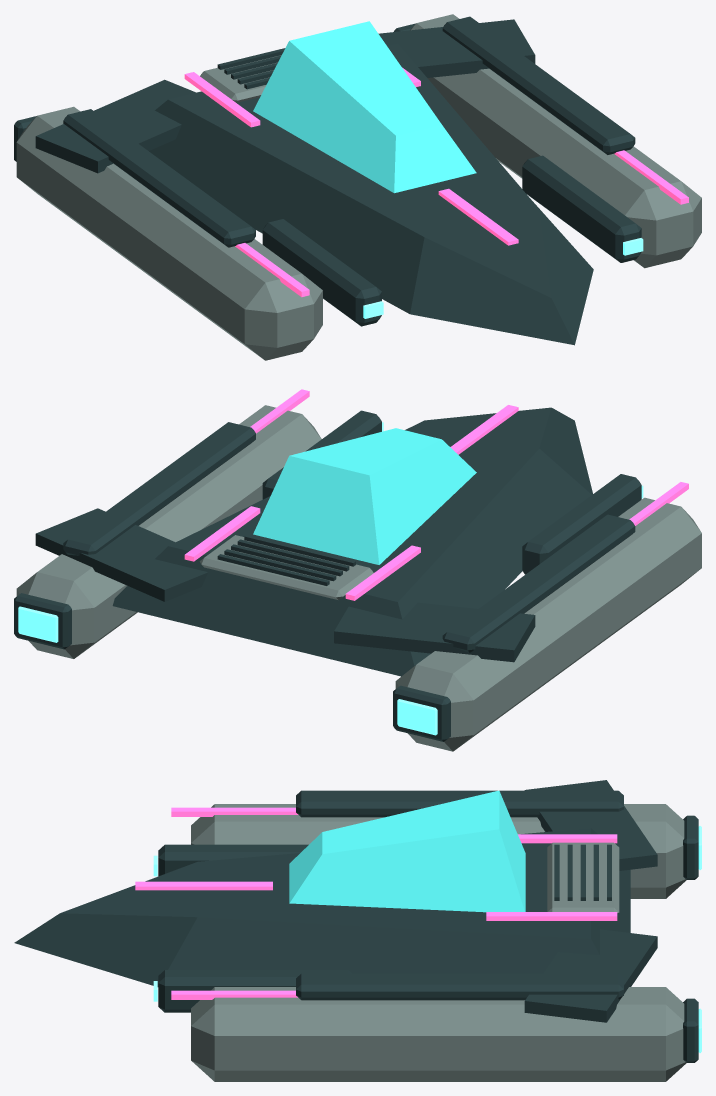
Rendered from vxr-01.glb.
The picture shows the model from 3 angles, top to bottom: view 1: azimuth 30°, elevation 25°; view 2: azimuth 150°, elevation 25°; view 3: azimuth 270°, elevation 25°; orthographic projection.
Visible parts, largest first — view 1: VXR arrowhead hull, VXR outrigger engine, VXR canopy, VXR outrigger engine.001, VXR engine spine.001, VXR engine spine, VXR swept stabilizer, VXR weapon pod.001, VXR weapon pod, VXR swept stabilizer.001, VXR rear deck, VXR nose spine (+3 smaller); view 2: VXR arrowhead hull, VXR outrigger engine, VXR canopy, VXR outrigger engine.001, VXR swept stabilizer, VXR engine spine, VXR engine spine.001, VXR swept stabilizer.001, VXR weapon pod, VXR rear deck, VXR engine nozzle.001, VXR engine nozzle (+13 smaller); view 3: VXR arrowhead hull, VXR outrigger engine.001, VXR canopy, VXR outrigger engine, VXR engine spine.001, VXR engine spine, VXR swept stabilizer.001, VXR swept stabilizer, VXR rear deck, VXR weapon pod.001, VXR weapon pod, VXR nose spine (+6 smaller).
Boxes of the visible parts, left/top/right/bottom form: VXR arrowhead hull: left=149, top=43, right=593, bottom=345; VXR outrigger engine: left=16, top=106, right=322, bottom=360; VXR canopy: left=253, top=21, right=476, bottom=193; VXR outrigger engine.001: left=410, top=14, right=701, bottom=268; VXR engine spine.001: left=442, top=16, right=635, bottom=154; VXR engine spine: left=63, top=109, right=255, bottom=247; VXR swept stabilizer: left=35, top=79, right=195, bottom=173; VXR weapon pod.001: left=522, top=155, right=641, bottom=262; VXR weapon pod: left=262, top=219, right=381, bottom=326; VXR swept stabilizer.001: left=378, top=19, right=535, bottom=77; VXR rear deck: left=200, top=55, right=280, bottom=102; VXR nose spine: left=438, top=188, right=518, bottom=245; VXR arrowhead hull: left=112, top=407, right=592, bottom=676; VXR outrigger engine: left=395, top=497, right=701, bottom=751; VXR canopy: left=253, top=428, right=476, bottom=564; VXR outrigger engine.001: left=16, top=405, right=321, bottom=658; VXR swept stabilizer: left=334, top=602, right=535, bottom=662; VXR engine spine: left=442, top=514, right=635, bottom=652; VXR engine spine.001: left=63, top=422, right=255, bottom=555; VXR swept stabilizer.001: left=35, top=508, right=207, bottom=601; VXR weapon pod: left=522, top=474, right=641, bottom=574; VXR rear deck: left=199, top=535, right=373, bottom=599; VXR engine nozzle.001: left=14, top=593, right=71, bottom=649; VXR engine nozzle: left=393, top=685, right=450, bottom=741; VXR arrowhead hull: left=14, top=828, right=630, bottom=986; VXR outrigger engine.001: left=191, top=987, right=686, bottom=1081; VXR canopy: left=289, top=790, right=525, bottom=912; VXR outrigger engine: left=191, top=804, right=686, bottom=898; VXR engine spine.001: left=296, top=973, right=623, bottom=1000; VXR engine spine: left=296, top=790, right=623, bottom=817; VXR swept stabilizer.001: left=524, top=929, right=657, bottom=1022; VXR swept stabilizer: left=524, top=780, right=657, bottom=870; VXR rear deck: left=547, top=842, right=619, bottom=913; VXR weapon pod.001: left=158, top=970, right=351, bottom=1012; VXR weapon pod: left=158, top=844, right=308, bottom=876; VXR nose spine: left=135, top=881, right=272, bottom=890.
Bounding box in the file's own units: 4.17 × 1.45 × 5.25.
